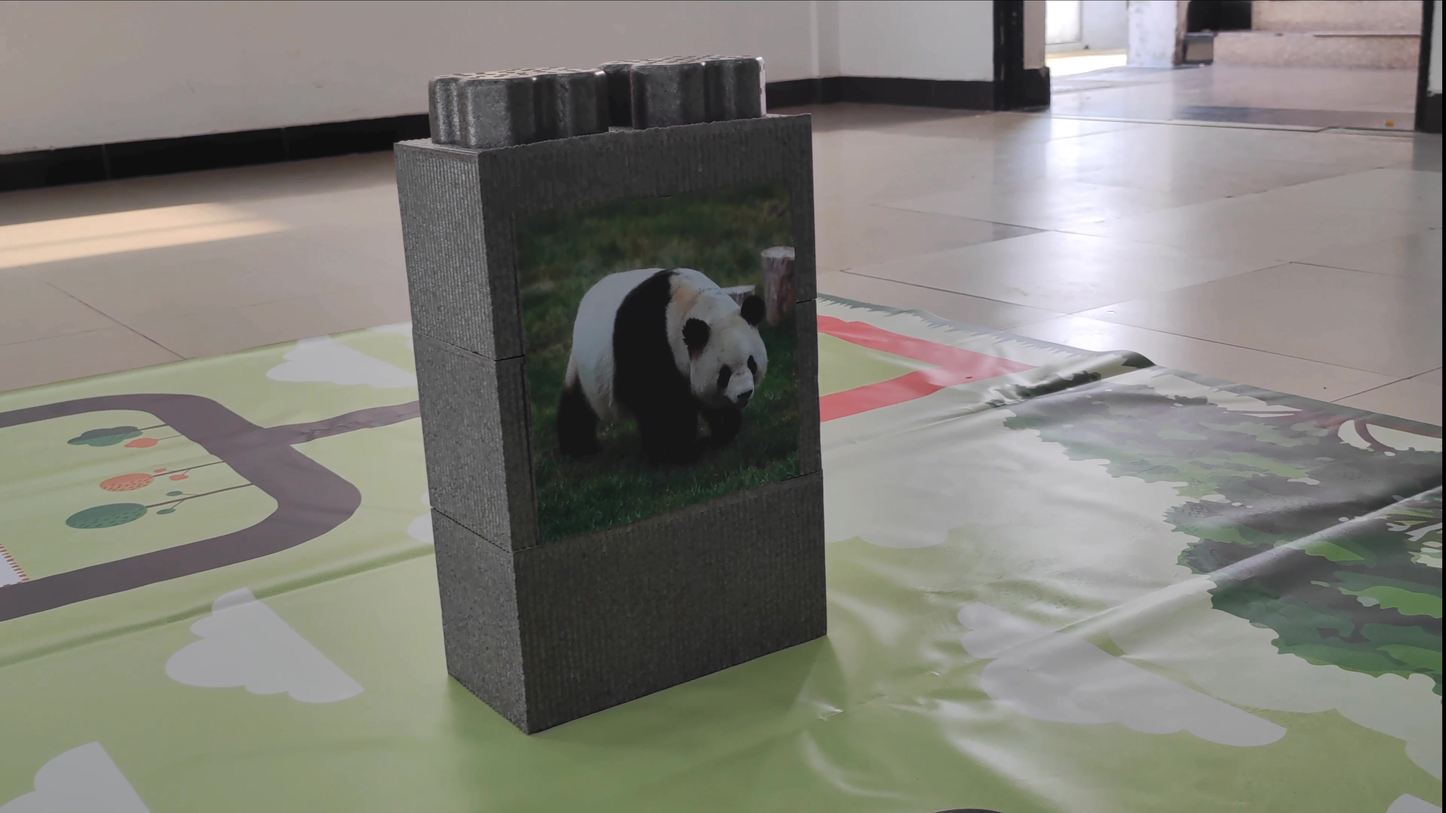panda: (535, 253, 772, 460)
